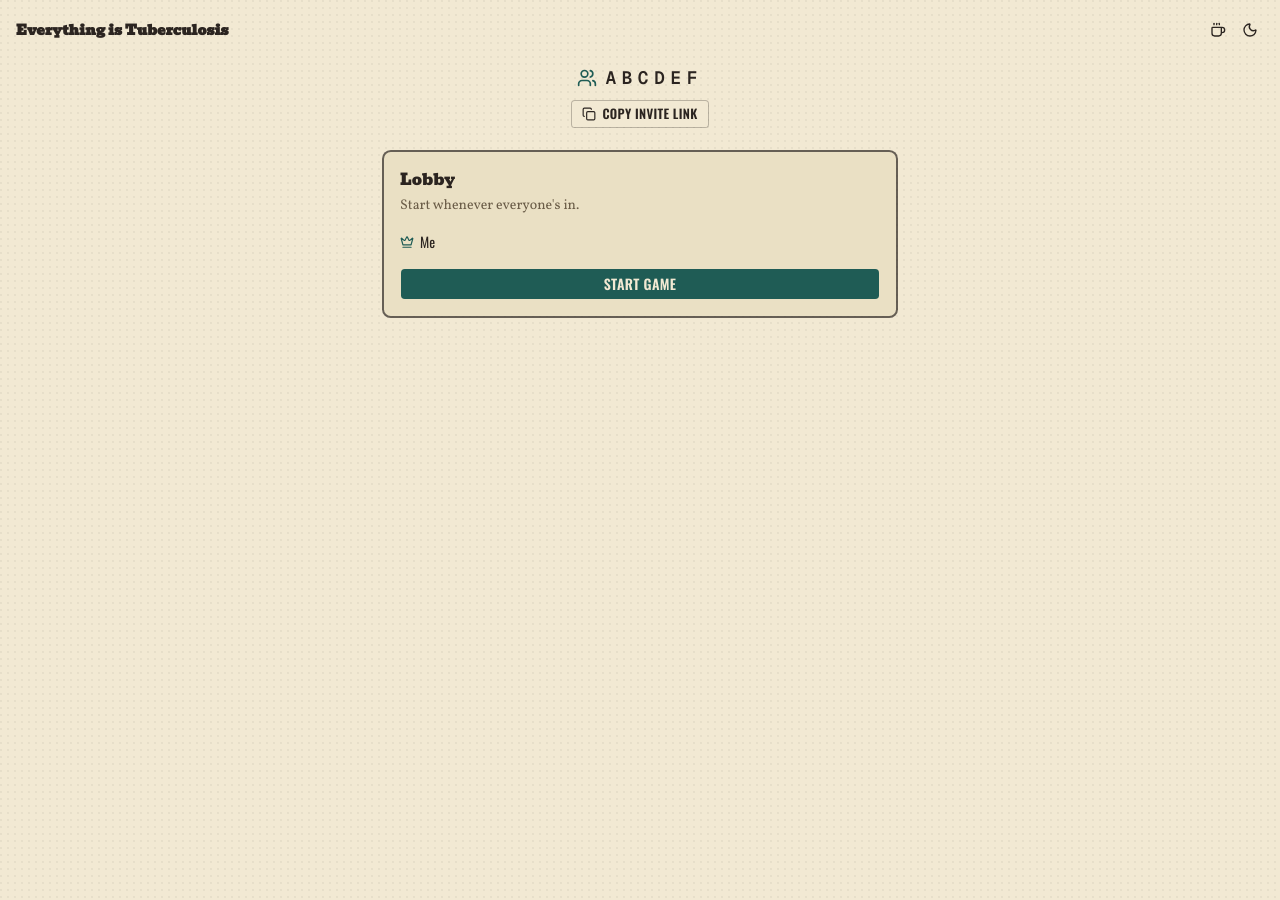
Test case: PartyRoom › shows a default start-game error when something other than an Error is thrown
The width and height of the screenshot is (1280, 900).
Click the button "Start Game": (640, 284) [400, 268, 880, 300]
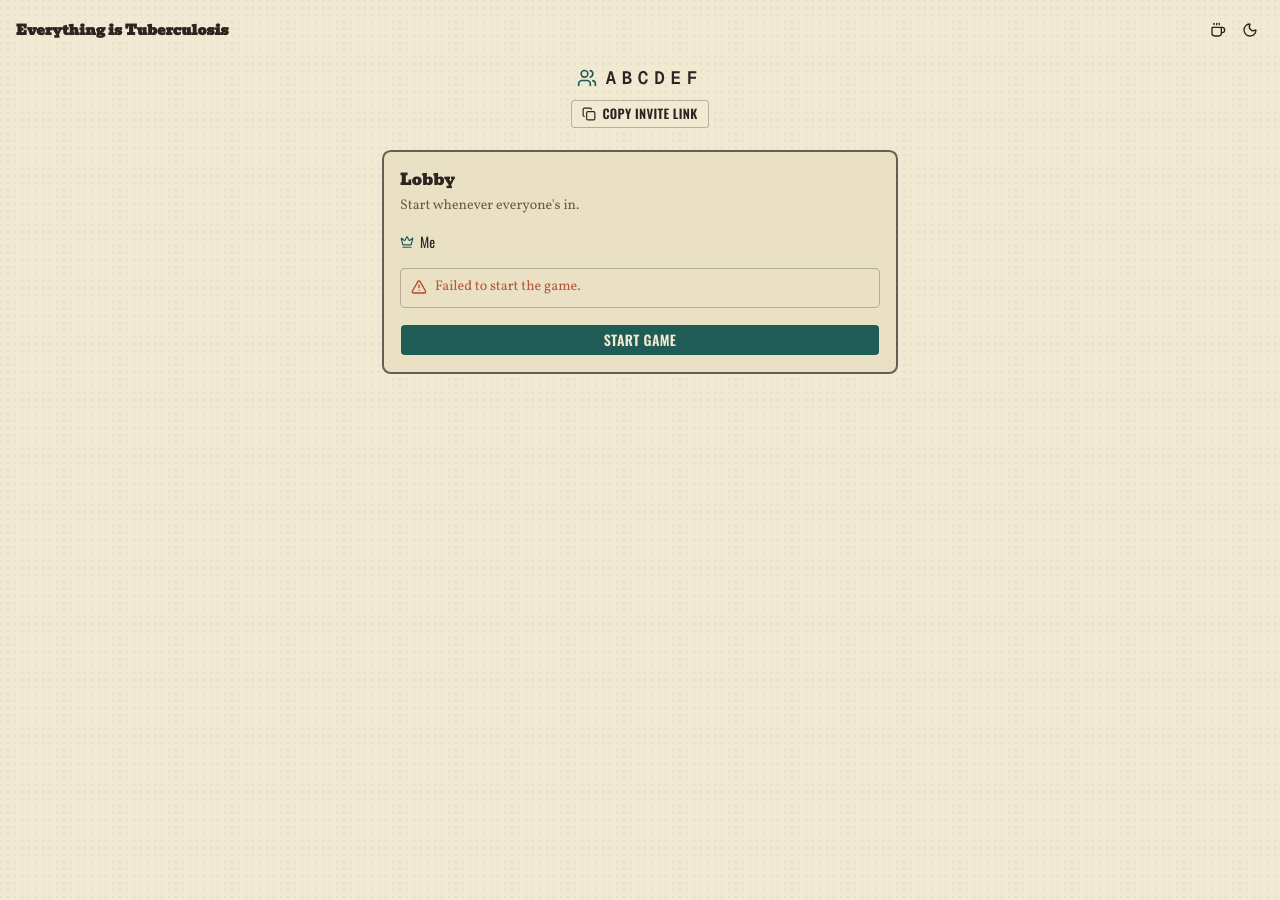
Expected: the text "Failed to start the game." is shown, [435, 277, 580, 296]
